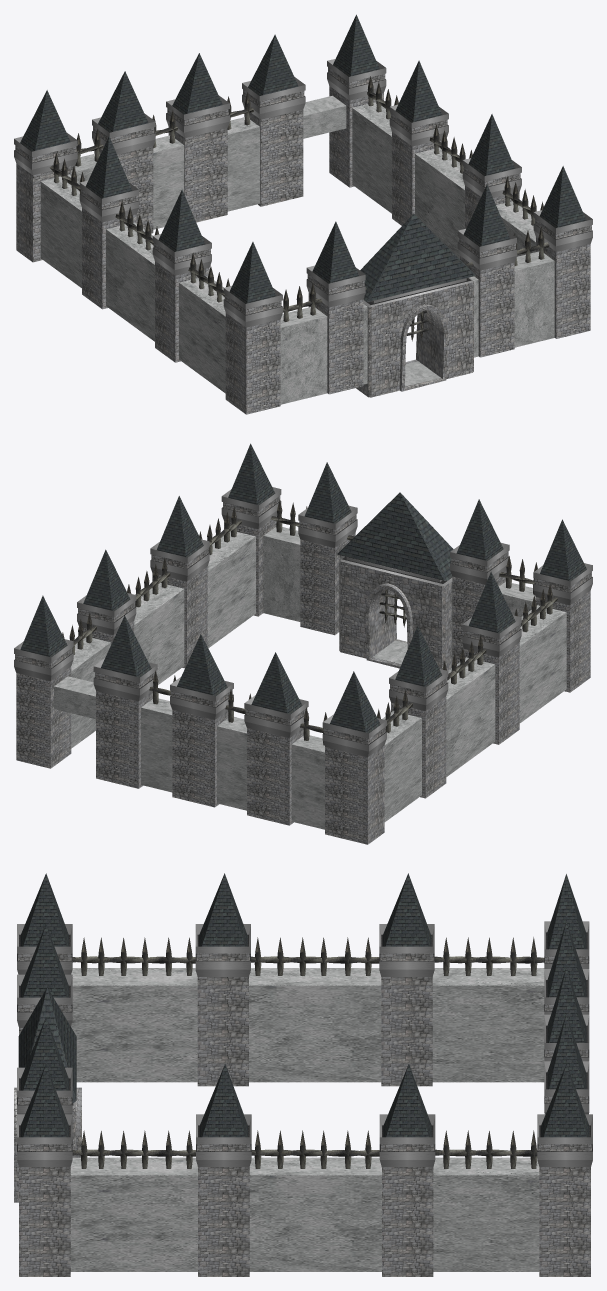
The model's file is Castle_Gate.fbx.
3 renders of one model, top to bottom at view 1: azimuth 30°, elevation 25°; view 2: azimuth 150°, elevation 25°; view 3: azimuth 270°, elevation 25°, orthographic. The views are drawn at different scales.
Visible parts, largest first — view 1: polySurface911; view 2: polySurface911; view 3: polySurface911.
Boxes of the visible parts, x1,y1,x2,y2 form: polySurface911: (14,14,592,414); polySurface911: (14,443,592,844); polySurface911: (14,873,592,1276).
Size of the model in its own units: 14.67 by 6.97 by 16.62.
Materials: 7 (6 with a texture image).
